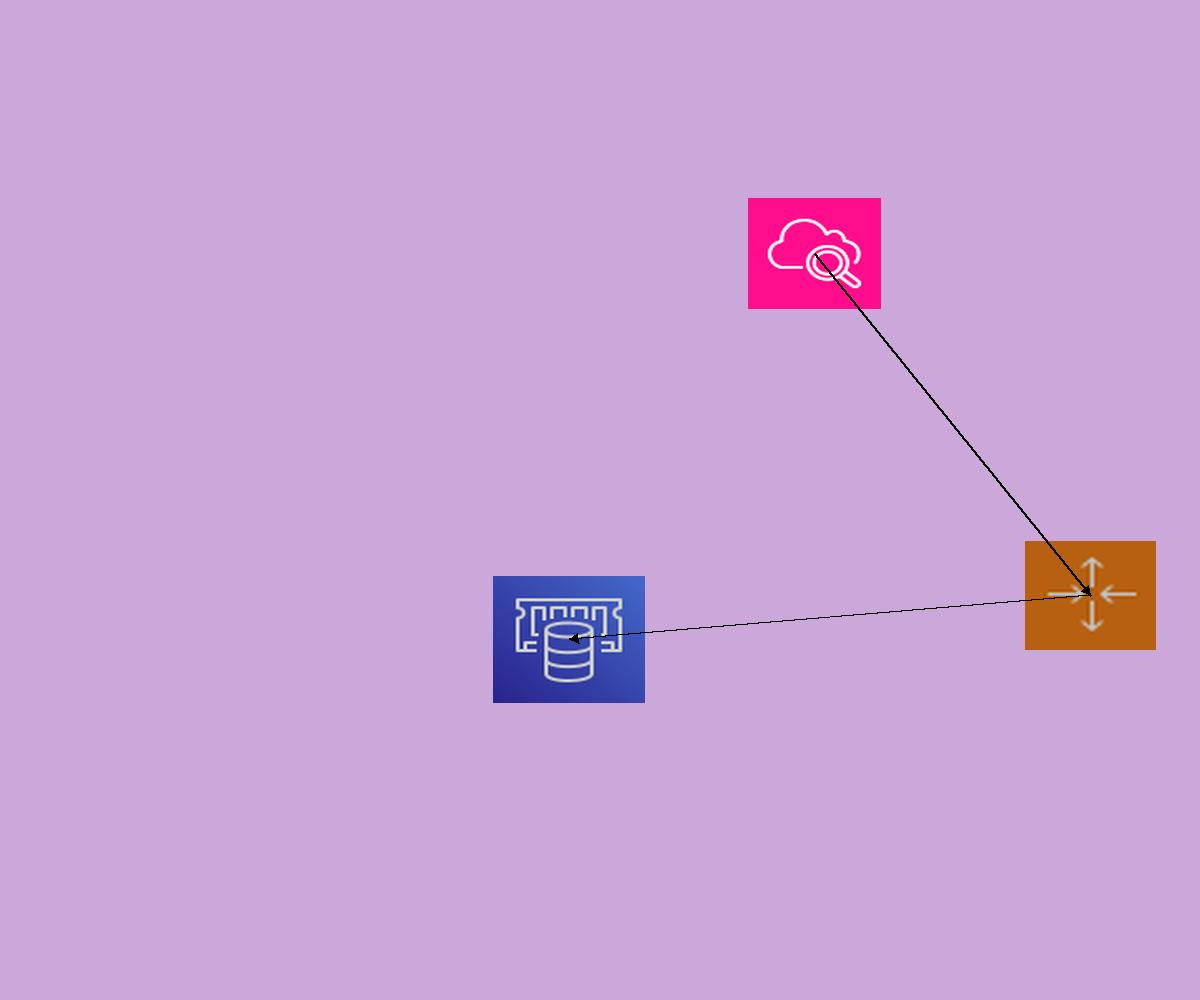AWS-CloudWatch: (748, 198, 881, 309)
AWS-ElastiCache: (493, 576, 645, 703)
AWS-Scaling-group: (1025, 541, 1156, 650)
